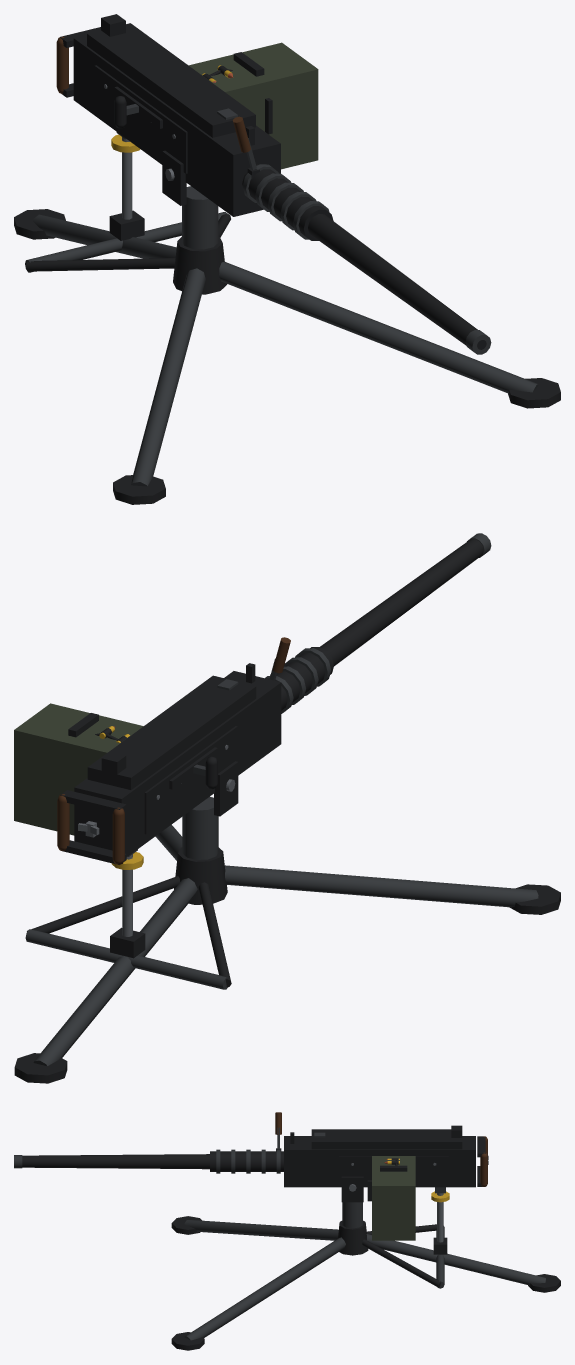
File: m2-browning.glb
3 views of the same model, one above another, from view 1: azimuth 30°, elevation 25°; view 2: azimuth 150°, elevation 25°; view 3: azimuth 270°, elevation 25° (orthographic). The views are drawn at different scales.
Visible parts, largest first — view 1: Mesh_Receiver, Mesh_AmmoBox, Mesh_TopCover, Mesh_LegFL, Mesh_LegFR, Mesh_MainBarrel, Mesh_PlateR, Mesh_LegRear, Mesh_PintleHead, Mesh_PintleBase, Mesh_BarrelShroud, Mesh_TraverseStrutR (+8 smaller); view 2: Mesh_AmmoBox, Mesh_Receiver, Mesh_TopCover, Mesh_LegFR, Mesh_LegRear, Mesh_MainBarrel, Mesh_PlateR, Mesh_TraverseBar, Mesh_PintleHead, Mesh_PintleBase, Mesh_TraverseStrutL, Mesh_BarrelShroud (+9 smaller); view 3: Mesh_Receiver, Mesh_AmmoBox, Mesh_TopCover, Mesh_MainBarrel, Mesh_LegFL, Mesh_LegRear, Mesh_LegFR, Mesh_PlateL, Mesh_BarrelShroud, Mesh_PintleBase, Mesh_TraverseStrutL, Mesh_CradleEarL (+4 smaller).
Boxes of the visible parts, x1,y1,x2,y2 form: Mesh_Receiver: [73, 35, 280, 216]; Mesh_AmmoBox: [189, 42, 318, 169]; Mesh_TopCover: [87, 23, 255, 137]; Mesh_LegFL: [219, 262, 538, 393]; Mesh_LegFR: [131, 268, 205, 486]; Mesh_MainBarrel: [308, 214, 477, 345]; Mesh_PlateR: [94, 65, 187, 173]; Mesh_LegRear: [33, 214, 176, 258]; Mesh_PintleHead: [182, 186, 218, 249]; Mesh_PintleBase: [173, 236, 227, 294]; Mesh_BarrelShroud: [242, 164, 333, 240]; Mesh_TraverseStrutR: [26, 258, 175, 271]; Mesh_AmmoBox: [14, 703, 143, 835]; Mesh_Receiver: [74, 671, 281, 856]; Mesh_TopCover: [87, 675, 256, 789]; Mesh_LegFR: [224, 865, 538, 907]; Mesh_LegRear: [33, 878, 197, 1066]; Mesh_MainBarrel: [320, 539, 483, 666]; Mesh_PlateR: [144, 726, 237, 834]; Mesh_TraverseBar: [25, 929, 227, 989]; Mesh_PintleHead: [182, 796, 218, 859]; Mesh_PintleBase: [174, 847, 227, 904]; Mesh_TraverseStrutL: [27, 876, 179, 933]; Mesh_BarrelShroud: [276, 647, 333, 710]; Mesh_Receiver: [284, 1136, 475, 1187]; Mesh_AmmoBox: [372, 1156, 415, 1240]; Mesh_TopCover: [311, 1129, 462, 1149]; Mesh_MainBarrel: [22, 1154, 209, 1169]; Mesh_LegFL: [184, 1237, 345, 1340]; Mesh_LegRear: [366, 1234, 545, 1285]; Mesh_LegFR: [184, 1220, 338, 1240]; Mesh_PlateL: [339, 1156, 448, 1181]; Mesh_BarrelShroud: [210, 1151, 283, 1171]; Mesh_PintleBase: [338, 1220, 368, 1255]; Mesh_TraverseStrutL: [362, 1239, 440, 1287]; Mesh_CradleEarL: [341, 1176, 363, 1202].
Size of the model in its own units: 1.12 by 0.683 by 2.
